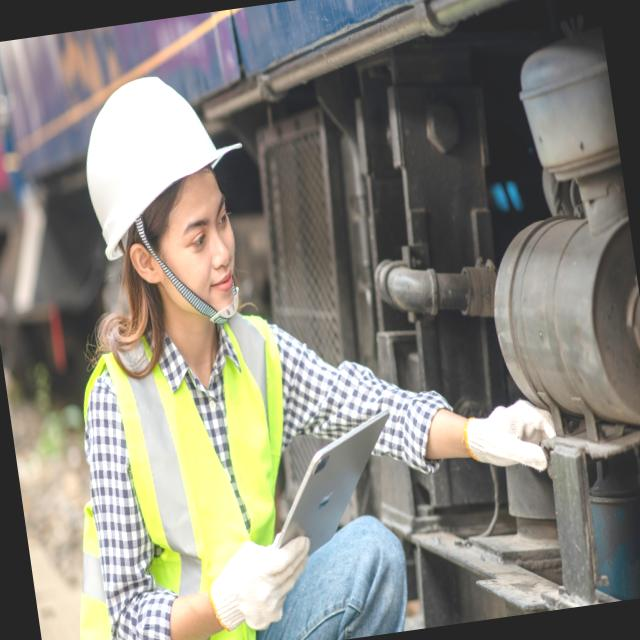helmet: (80, 66, 254, 264)
no-goggles: (124, 212, 244, 267)
vest: (50, 311, 322, 640)
